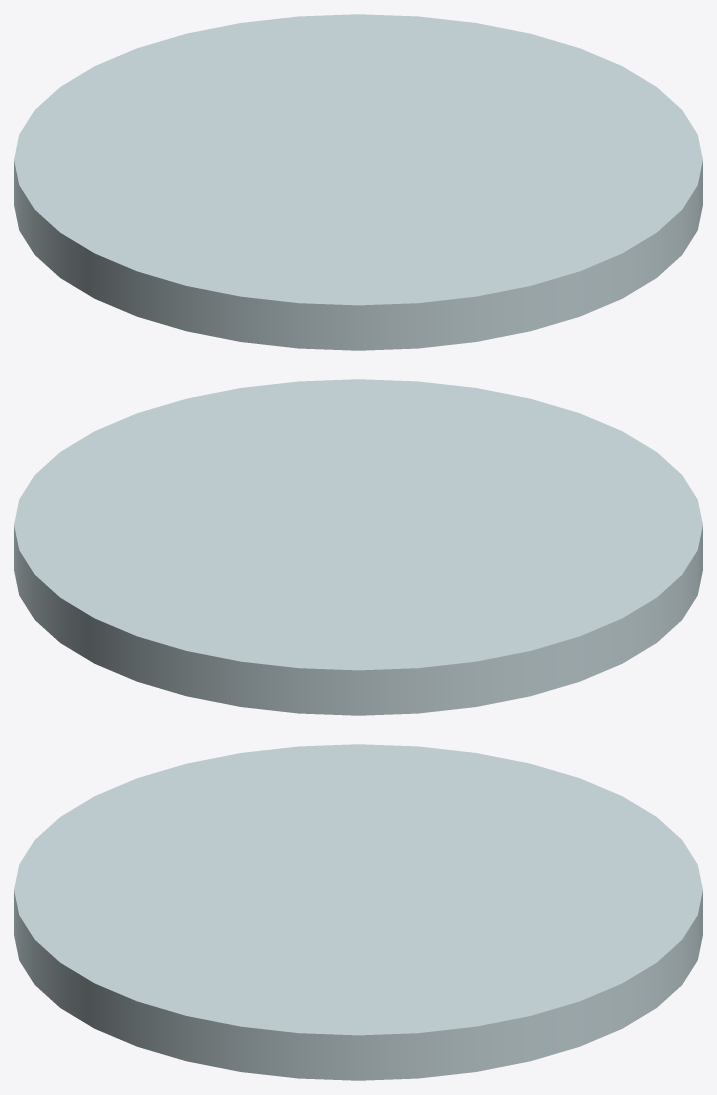
Rendered from island_primitive.fbx.
The picture shows the model from 3 angles, top to bottom: view 1: azimuth 30°, elevation 25°; view 2: azimuth 150°, elevation 25°; view 3: azimuth 270°, elevation 25°; orthographic projection.
Parts seen in each view (by area): view 1: Cylinder; view 2: Cylinder; view 3: Cylinder.
Boxes of the visible parts, left/top/right/bottom form: Cylinder: left=14, top=14, right=702, bottom=350; Cylinder: left=14, top=379, right=702, bottom=715; Cylinder: left=14, top=744, right=702, bottom=1080.
Bounding box in the file's own units: 150 × 10.9 × 150.
